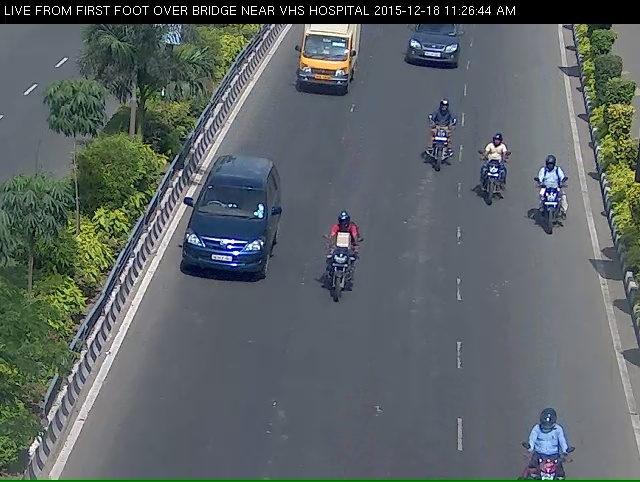Car: (175, 166, 276, 309), (283, 18, 361, 111), (401, 22, 468, 84)
Person: (315, 228, 364, 327), (527, 162, 564, 257), (472, 140, 511, 225), (420, 104, 459, 185)
